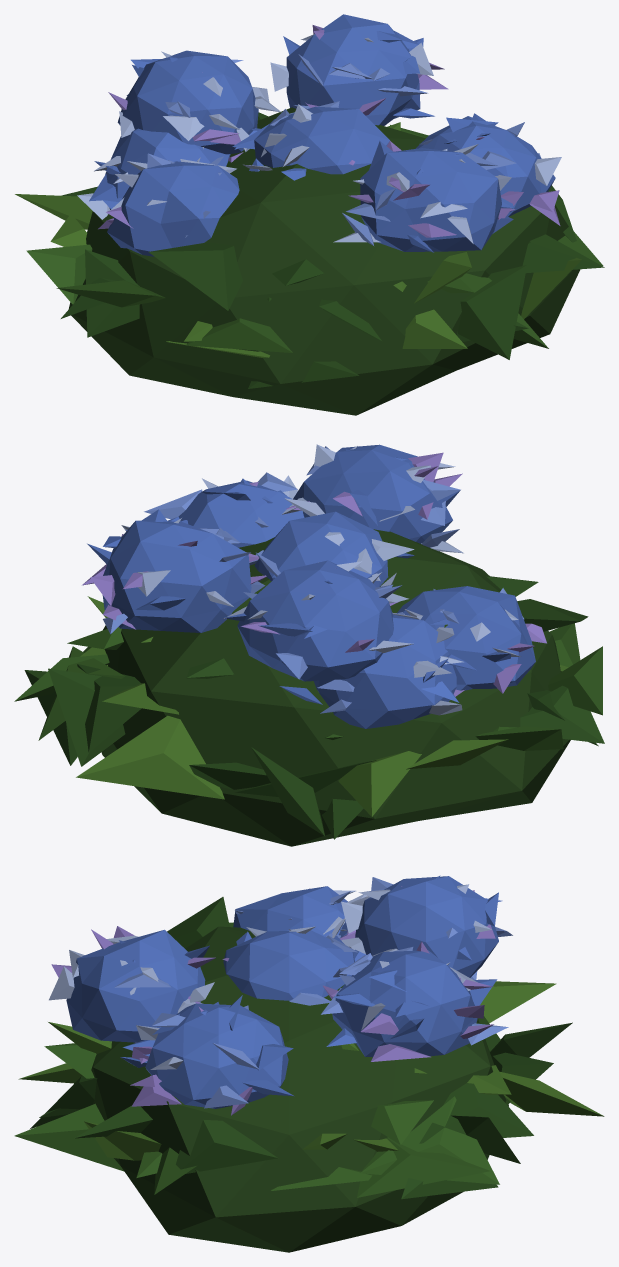
File: hydrangea_blue.glb
3 views of the same model, one above another, from view 1: azimuth 30°, elevation 25°; view 2: azimuth 150°, elevation 25°; view 3: azimuth 270°, elevation 25° (orthographic). The views are drawn at different scales.
Visible parts, largest first — view 1: hydrangea_blue; view 2: hydrangea_blue; view 3: hydrangea_blue.
Boxes of the visible parts, box(x1,y1,x2,y2) form: hydrangea_blue: box(15, 14, 604, 415); hydrangea_blue: box(14, 444, 604, 846); hydrangea_blue: box(14, 875, 604, 1252).
Size of the model in its own units: 1.56 by 0.73 by 1.61.
